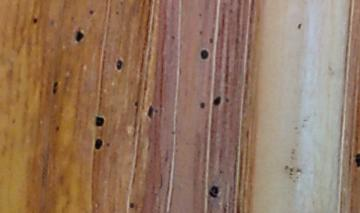tarspot: (209, 184, 219, 198), (75, 29, 85, 42), (95, 114, 104, 128), (94, 138, 103, 150), (200, 49, 209, 61), (146, 106, 154, 119), (212, 96, 222, 106), (52, 80, 59, 93), (116, 58, 123, 70), (355, 152, 360, 167), (128, 201, 135, 209), (54, 123, 60, 132), (199, 102, 206, 109), (169, 33, 176, 40), (133, 99, 138, 108), (32, 17, 38, 24), (296, 23, 302, 30), (208, 36, 214, 43), (105, 141, 112, 147), (114, 9, 120, 16), (89, 8, 94, 16), (197, 12, 203, 18), (198, 29, 203, 35)
